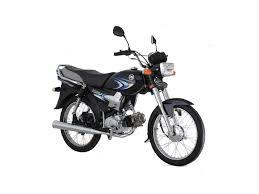motorcycle: (50, 24, 206, 166)
